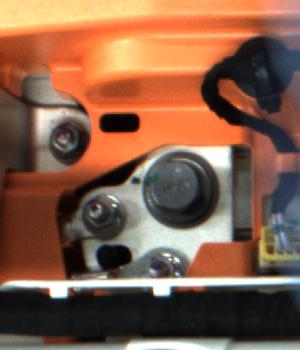nut_b: (131, 151, 224, 230)
screw_s: (80, 195, 126, 236), (42, 121, 87, 162), (136, 243, 183, 277)
